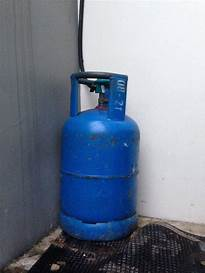blue_gas: (60, 72, 140, 242)
